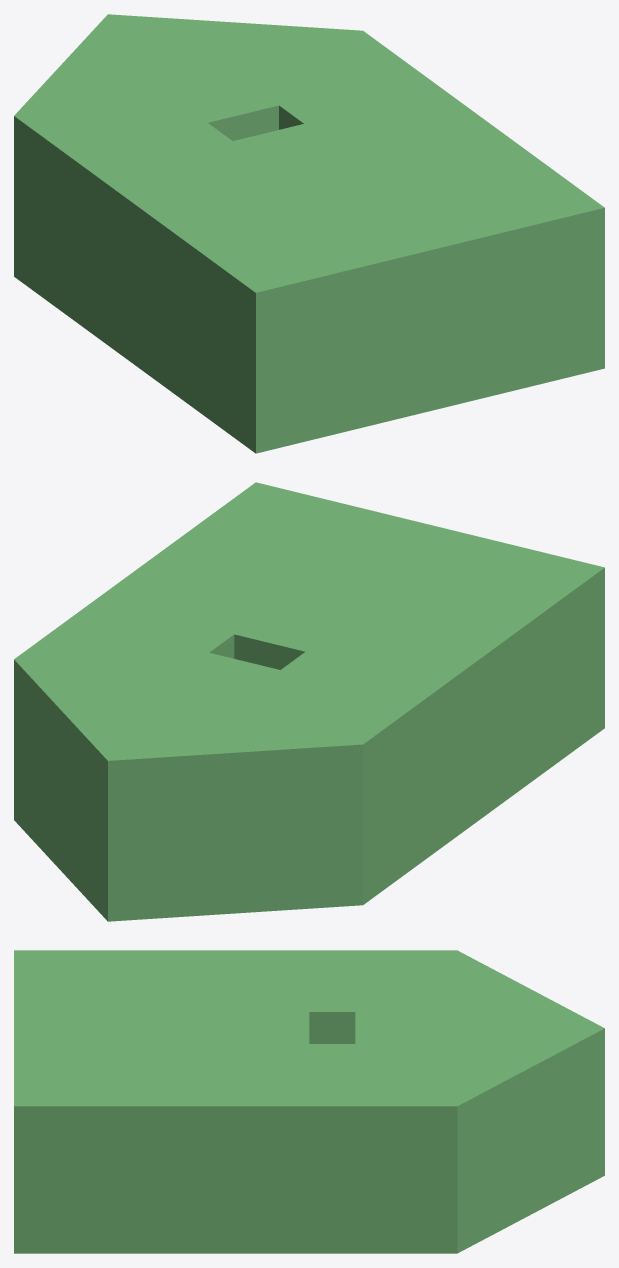
File: Flèche.glb
The picture shows the model from 3 angles, top to bottom: view 1: azimuth 30°, elevation 25°; view 2: azimuth 150°, elevation 25°; view 3: azimuth 270°, elevation 25°; orthographic projection. The views are drawn at different scales.
Visible parts, largest first — view 1: Mesh_Mesh_head_geo.001_lambert2SG.001; view 2: Mesh_Mesh_head_geo.001_lambert2SG.001; view 3: Mesh_Mesh_head_geo.001_lambert2SG.001.
Boxes of the visible parts, x1,y1,x2,y2 form: Mesh_Mesh_head_geo.001_lambert2SG.001: [14, 14, 604, 453]; Mesh_Mesh_head_geo.001_lambert2SG.001: [14, 482, 604, 921]; Mesh_Mesh_head_geo.001_lambert2SG.001: [14, 950, 604, 1253].
Bounding box in the file's own units: 25 × 11 × 40.
